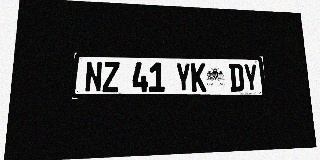1: (149, 62, 165, 92)
4: (132, 62, 148, 92)
D: (229, 63, 244, 92)
K: (191, 63, 206, 92)
N: (84, 61, 103, 92)
Y: (175, 63, 191, 92), (243, 64, 259, 91)
Z: (102, 62, 120, 92)
